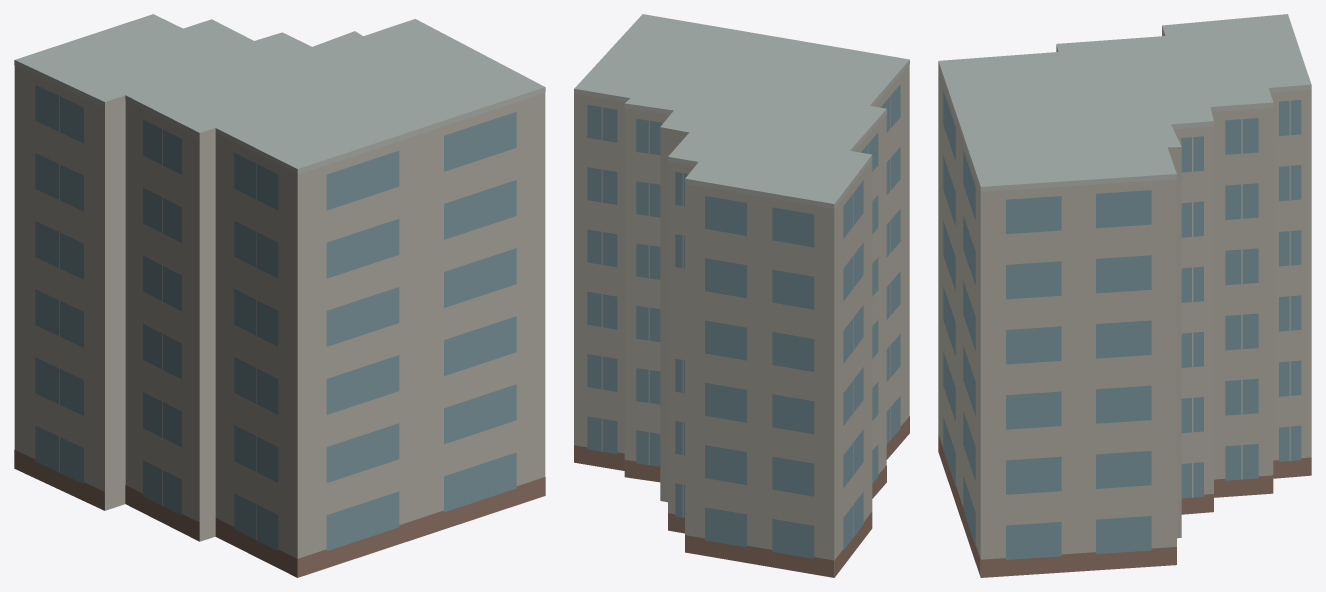
File: survey-upis-32877038.glb
3 views of the same model, side by side, from view 1: azimuth 30°, elevation 25°; view 2: azimuth 150°, elevation 25°; view 3: azimuth 270°, elevation 25° (orthographic). The views are drawn at different scales.
Visible parts, largest first — view 1: survey-upis-32877038.tmp; view 2: survey-upis-32877038.tmp; view 3: survey-upis-32877038.tmp.
Part boxes in pixels (x1,y1,x2,y2): survey-upis-32877038.tmp: (14,14,545,577); survey-upis-32877038.tmp: (574,14,909,577); survey-upis-32877038.tmp: (938,14,1311,577).
Size of the model in its own units: 17.45 by 18.4 by 15.92.
